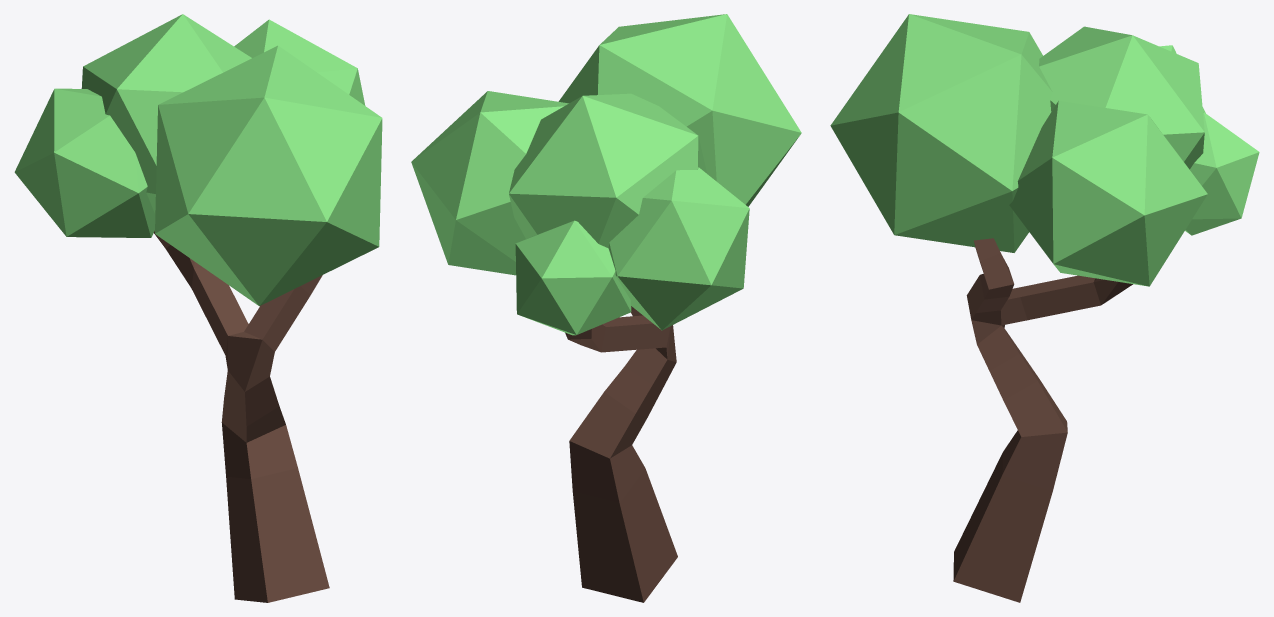
Rendered from tree.fbx.
3 renders of one model, left to right at view 1: azimuth 30°, elevation 25°; view 2: azimuth 150°, elevation 25°; view 3: azimuth 270°, elevation 25°, orthographic.
Parts seen in each view (by area): view 1: Cube; view 2: Cube; view 3: Cube.
Part boxes in pixels (x1,y1,x2,y2): Cube: (14, 14, 382, 602); Cube: (411, 14, 801, 602); Cube: (830, 14, 1259, 602).
Bounding box in the file's own units: 384 × 645 × 459.
